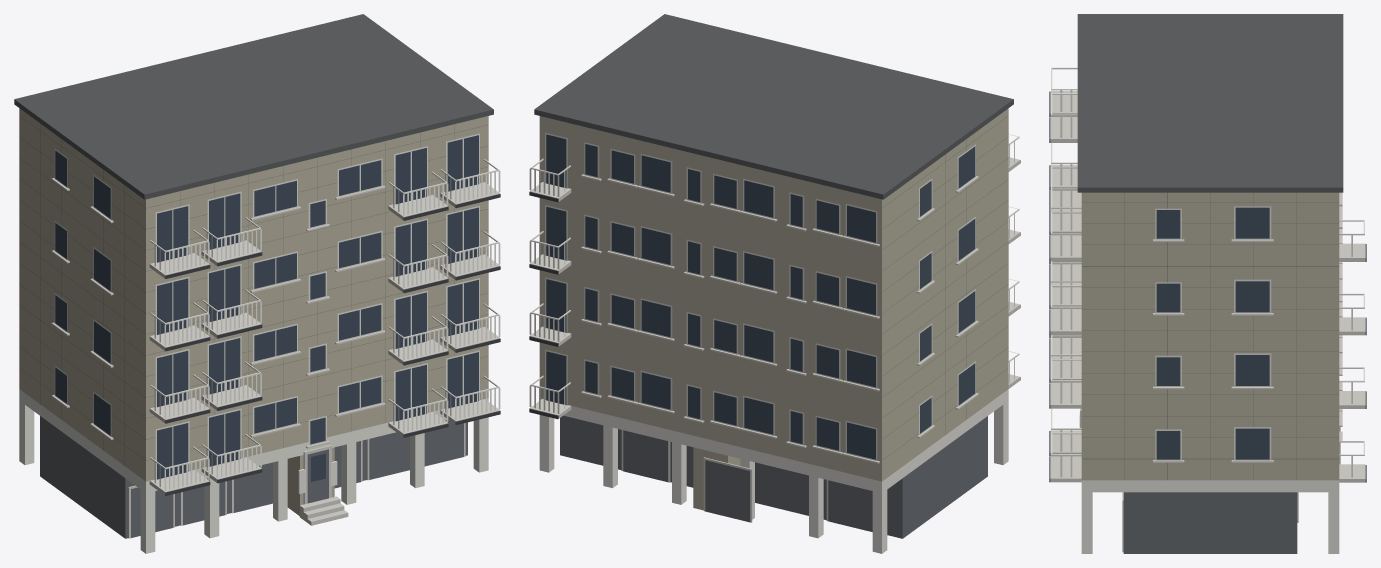
File: nw-pilotis-panel-flat__concrete-panel__5__flat__long__pilotis.glb
3 renders of one model, left to right at view 1: azimuth 30°, elevation 25°; view 2: azimuth 150°, elevation 25°; view 3: azimuth 270°, elevation 25°, orthographic.
Parts seen in each view (by area): view 1: nw-pilotis-panel-flat__concrete-panel__5__flat__long__piloti; view 2: nw-pilotis-panel-flat__concrete-panel__5__flat__long__piloti; view 3: nw-pilotis-panel-flat__concrete-panel__5__flat__long__piloti.
Boxes of the visible parts, x1=… form: nw-pilotis-panel-flat__concrete-panel__5__flat__long__piloti: x1=14, y1=14, x2=500, y2=553; nw-pilotis-panel-flat__concrete-panel__5__flat__long__piloti: x1=529, y1=14, x2=1020, y2=553; nw-pilotis-panel-flat__concrete-panel__5__flat__long__piloti: x1=1049, y1=14, x2=1366, y2=553.
Size of the model in its own units: 15.64 by 15.47 by 12.08.
